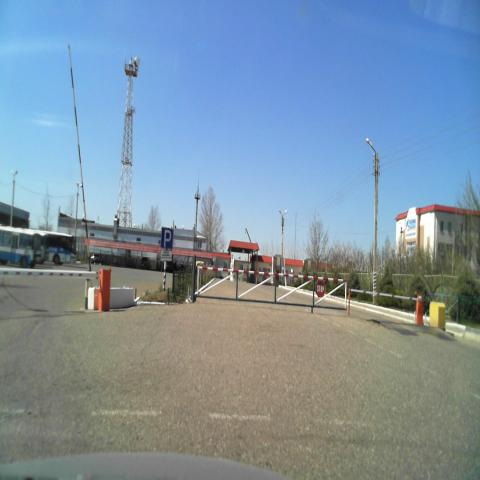6_4: (160, 227, 172, 249)
